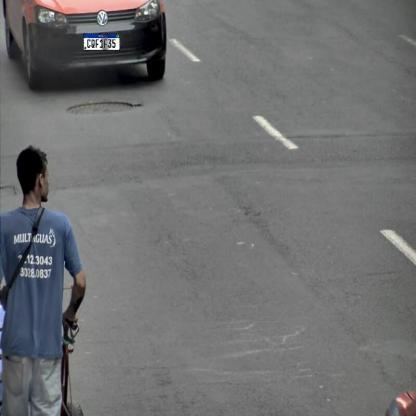PlacaM: (83, 33, 120, 51)
